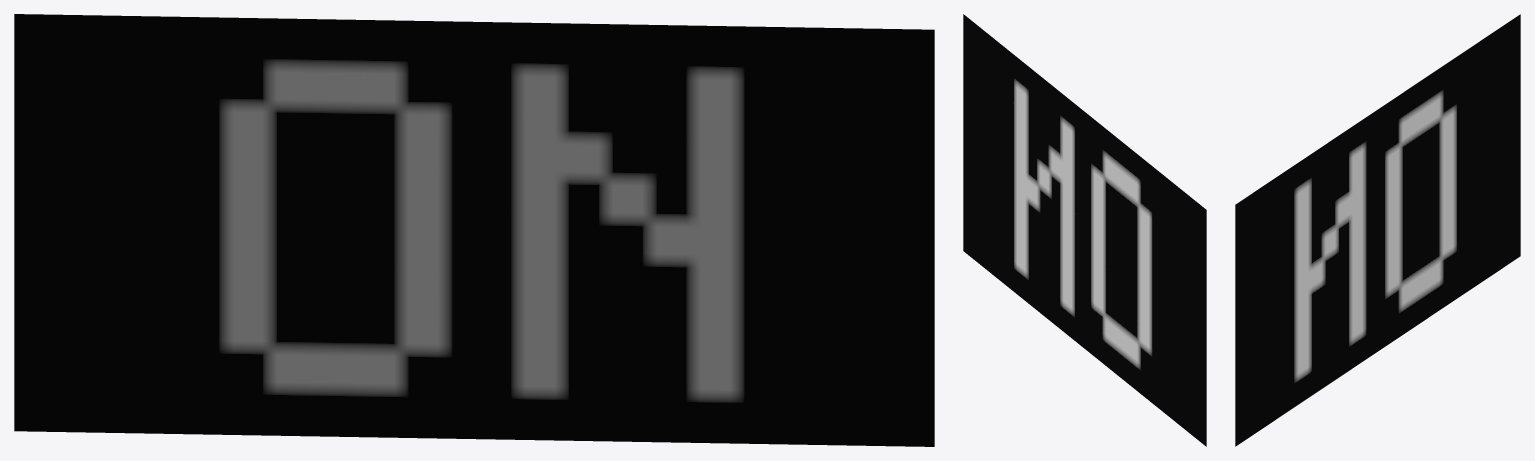
The picture shows the model from 3 angles, left to right: view 1: azimuth 30°, elevation 25°; view 2: azimuth 150°, elevation 25°; view 3: azimuth 270°, elevation 25°; orthographic projection. The views are drawn at different scales.
Parts seen in each view (by area): view 1: Joint_0_Object_0; view 2: Joint_0_Object_0; view 3: Joint_0_Object_0.
Part boxes in pixels (x1=…): Joint_0_Object_0: x1=14, y1=14, x2=934, y2=446; Joint_0_Object_0: x1=963, y1=14, x2=1206, y2=446; Joint_0_Object_0: x1=1235, y1=14, x2=1520, y2=446.
Size of the model in its own units: 54.09 by 32 by 34.21.
1 material, 1 textured.
